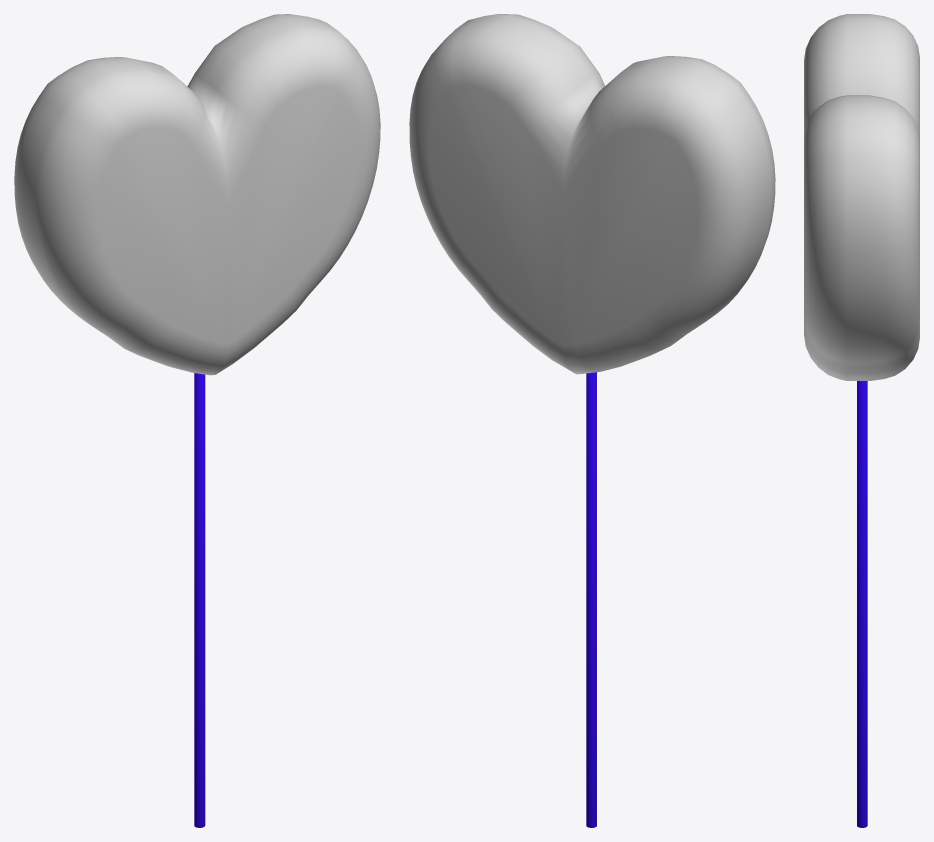
The model's file is tallheart details.fbx.
The picture shows the model from 3 angles, left to right: view 1: azimuth 30°, elevation 25°; view 2: azimuth 150°, elevation 25°; view 3: azimuth 270°, elevation 25°; orthographic projection. The views are drawn at different scales.
Parts seen in each view (by area): view 1: Circle.002; view 2: Circle.002; view 3: Circle.002.
Boxes of the visible parts, left/top/right/bottom form: Circle.002: left=14, top=14, right=380, bottom=827; Circle.002: left=409, top=14, right=775, bottom=827; Circle.002: left=804, top=14, right=919, bottom=827.
Bounding box in the file's own units: 2197 × 4822 × 666.
